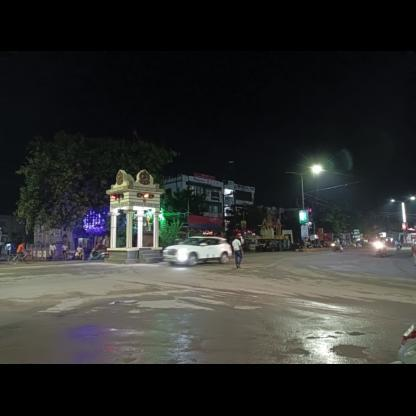Bicycle: (6, 246, 42, 268)
